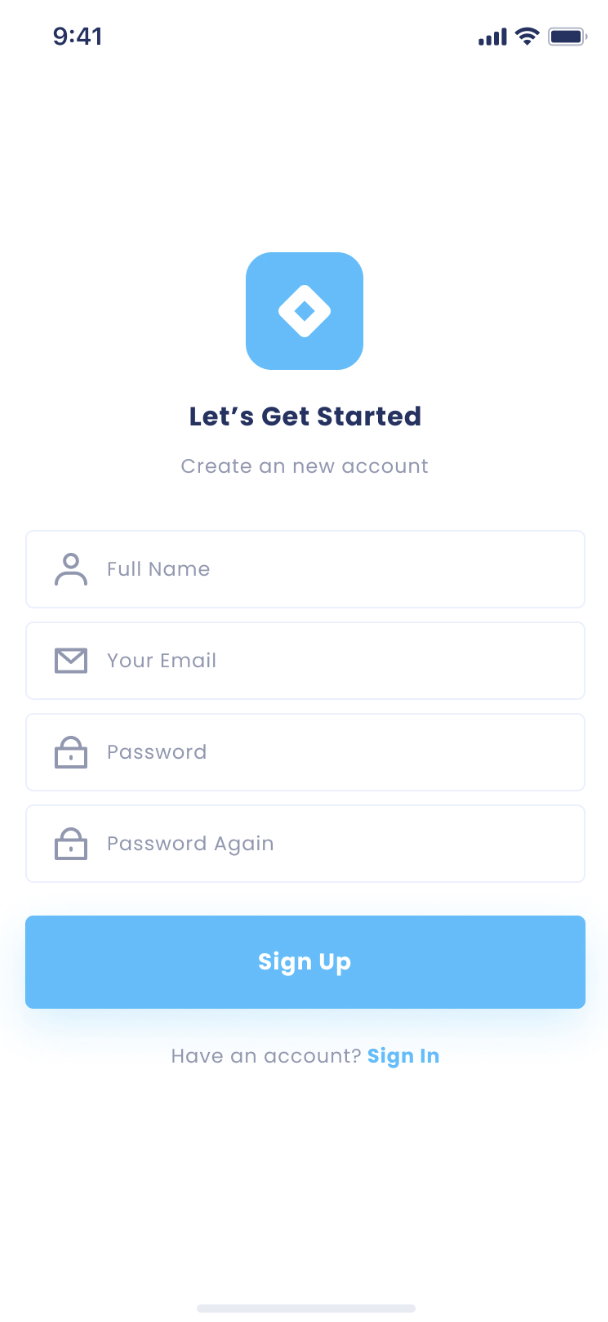Button: (22, 911, 590, 1012)
